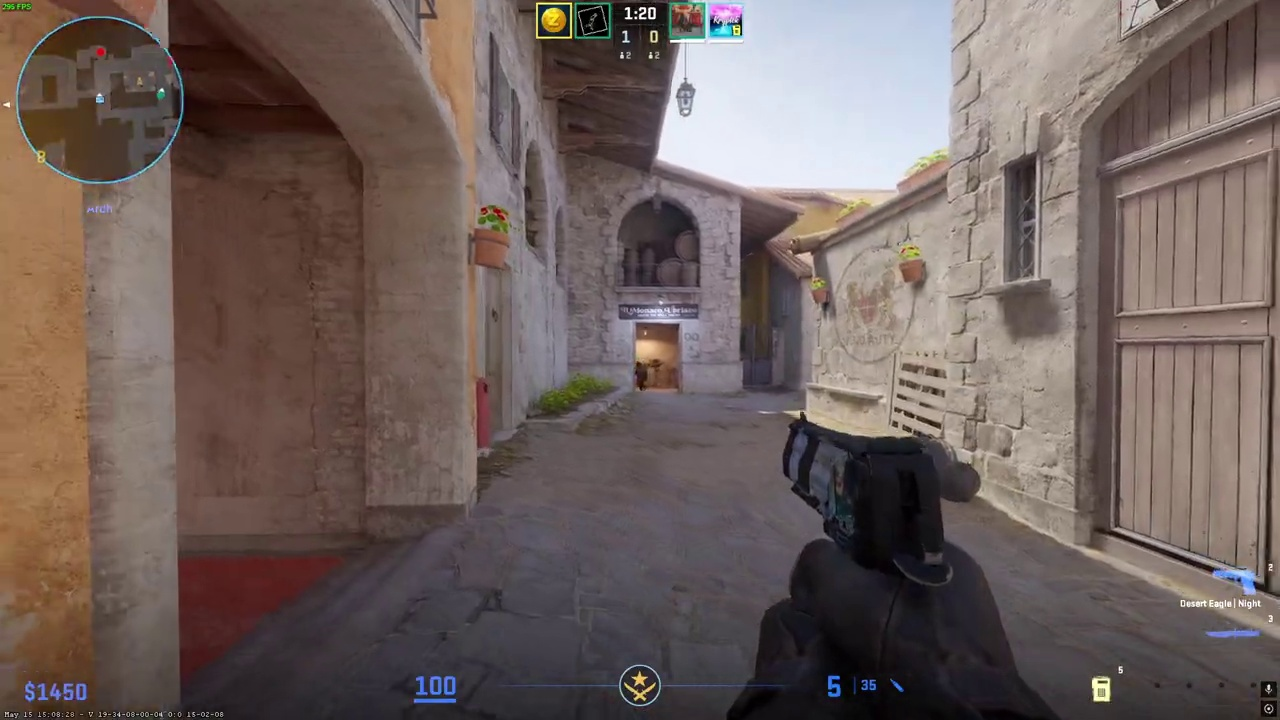CT: (634, 361, 648, 391)
